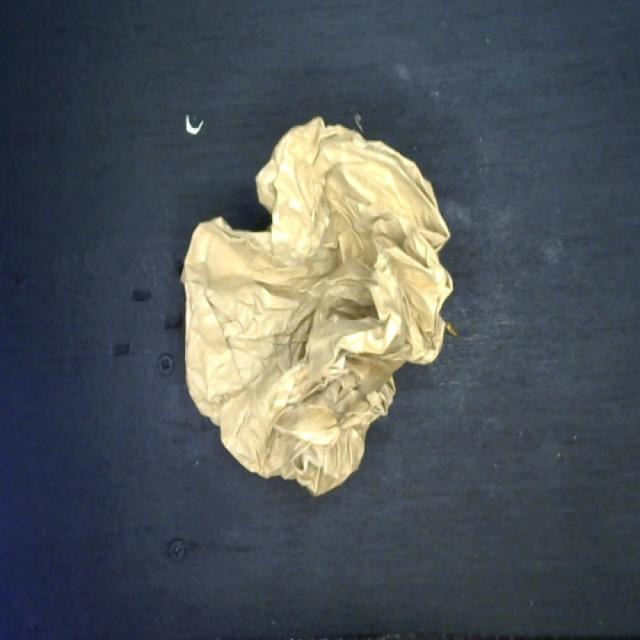biodegradable: (178, 117, 458, 498)
